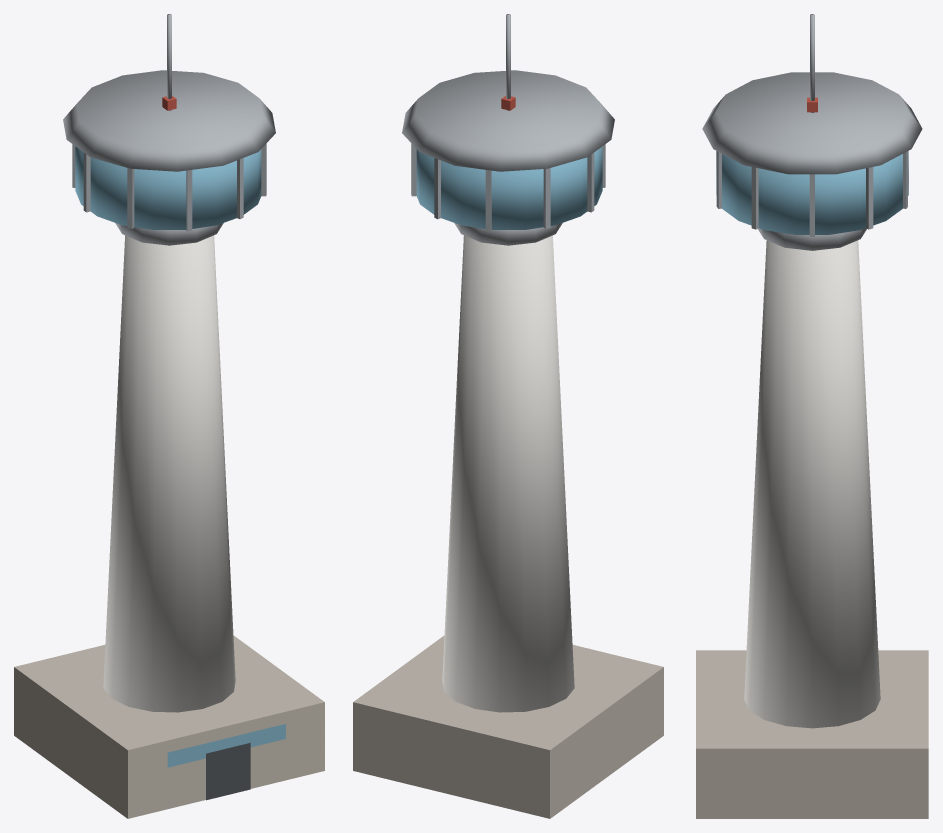
Rendered from atc_tower.glb.
The picture shows the model from 3 angles, left to right: view 1: azimuth 30°, elevation 25°; view 2: azimuth 150°, elevation 25°; view 3: azimuth 270°, elevation 25°; orthographic projection. The views are drawn at different scales.
Visible parts, largest first — view 1: atc_shaft, atc_base, Merged_PropsMetal, Merged_FacadeGlass, atc_base_door; view 2: atc_shaft, atc_base, Merged_PropsMetal, Merged_FacadeGlass; view 3: atc_shaft, atc_base, Merged_PropsMetal, Merged_FacadeGlass.
Part boxes in pixels (x1=…): atc_shaft: x1=103, y1=235, x2=235, y2=712; atc_base: x1=14, y1=635, x2=324, y2=818; Merged_PropsMetal: x1=63, y1=14, x2=275, y2=245; Merged_FacadeGlass: x1=75, y1=146, x2=285, y2=767; atc_base_door: x1=206, y1=743, x2=250, y2=800; atc_shaft: x1=442, y1=235, x2=574, y2=712; atc_base: x1=353, y1=635, x2=663, y2=818; Merged_PropsMetal: x1=402, y1=14, x2=614, y2=245; Merged_FacadeGlass: x1=416, y1=146, x2=602, y2=229; atc_shaft: x1=744, y1=240, x2=880, y2=728; atc_base: x1=696, y1=650, x2=928, y2=818; Merged_PropsMetal: x1=702, y1=14, x2=922, y2=250; Merged_FacadeGlass: x1=716, y1=151, x2=908, y2=234.
Size of the model in its own units: 15 by 53.7 by 15.25.
